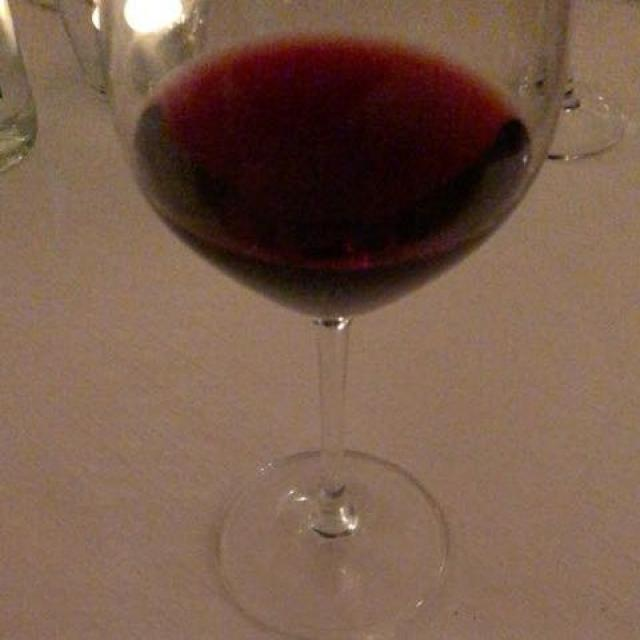drink: (137, 41, 521, 284)
wine: (137, 41, 521, 284)
